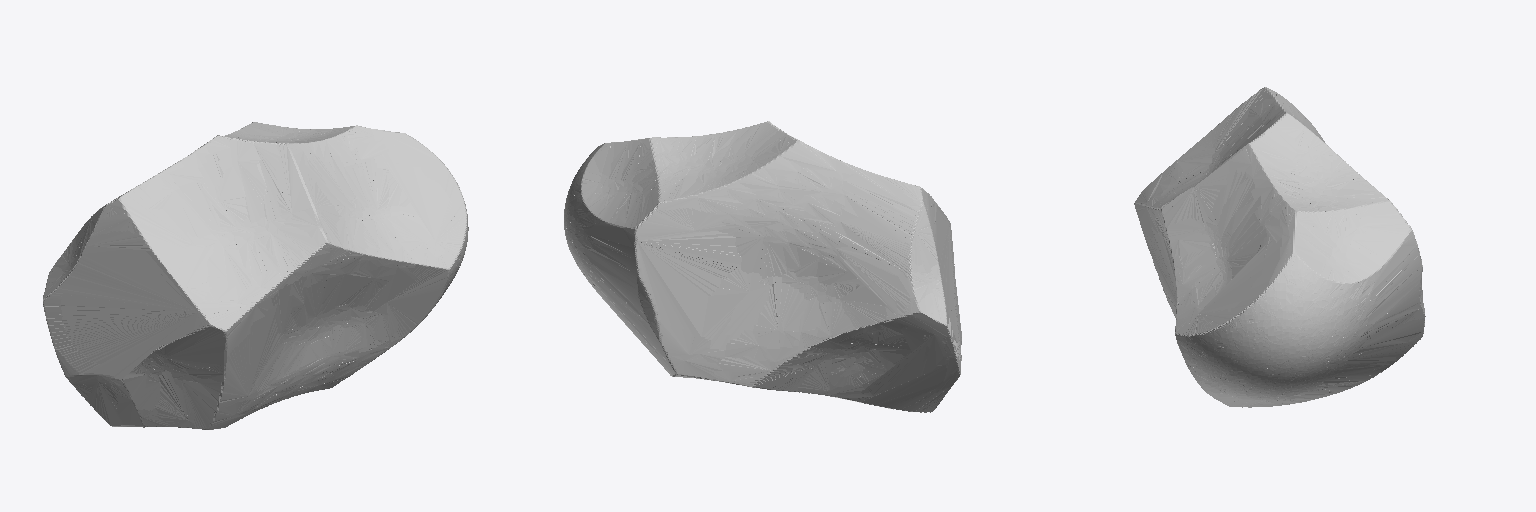
Rendered from Rock_02.obj.
The picture shows the model from 3 angles: view 1: azimuth 30°, elevation 25°; view 2: azimuth 150°, elevation 25°; view 3: azimuth 270°, elevation 25°; orthographic projection.
Parts seen in each view (by area): view 1: Cube.002_Cube.010; view 2: Cube.002_Cube.010; view 3: Cube.002_Cube.010.
Part boxes in pixels (x1,y1,x2,y2): Cube.002_Cube.010: (43,122,468,429); Cube.002_Cube.010: (564,121,961,412); Cube.002_Cube.010: (1134,87,1425,407).
Size of the model in its own units: 2.44 by 1.49 by 1.56.